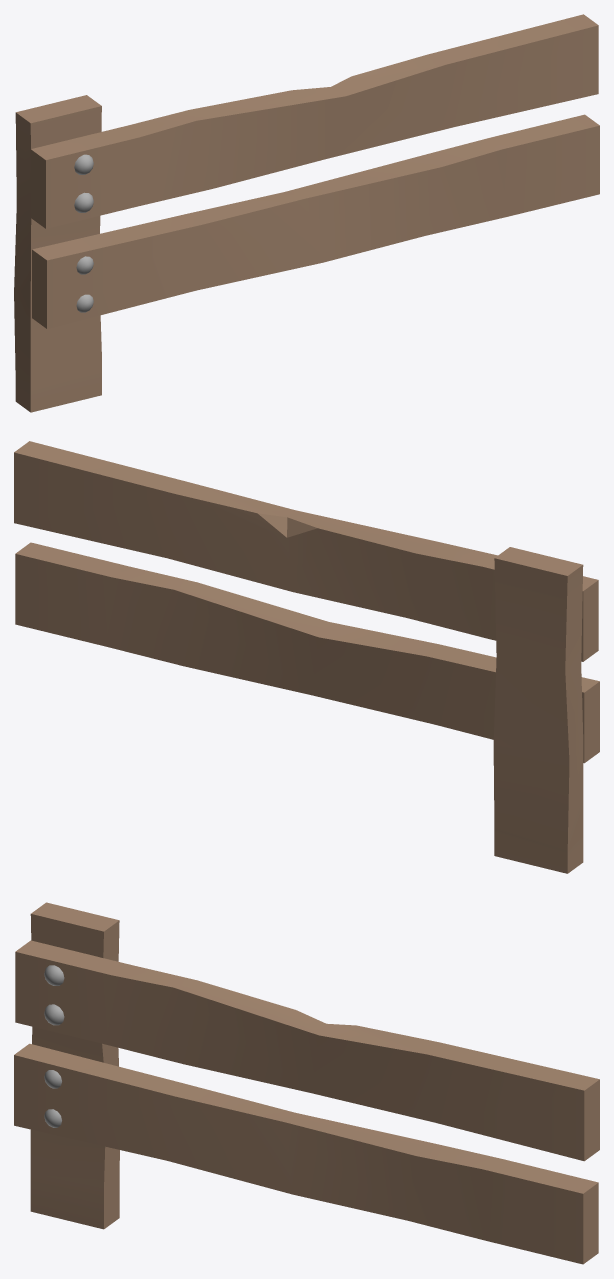
File: Mod_FencePostTiling.fbx
The picture shows the model from 3 angles, top to bottom: view 1: azimuth 30°, elevation 25°; view 2: azimuth 150°, elevation 25°; view 3: azimuth 330°, elevation 25°; orthographic projection. The views are drawn at different scales.
Parts seen in each view (by area): view 1: FencePostTiling; view 2: FencePostTiling; view 3: FencePostTiling.
Part boxes in pixels (x1,y1,x2,y2): FencePostTiling: (14, 14, 599, 412); FencePostTiling: (14, 441, 599, 873); FencePostTiling: (14, 902, 599, 1264).
Bounding box in the file's own units: 261 × 130 × 29.89.
